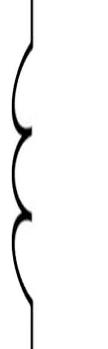inductor: (7, 28, 54, 316)
